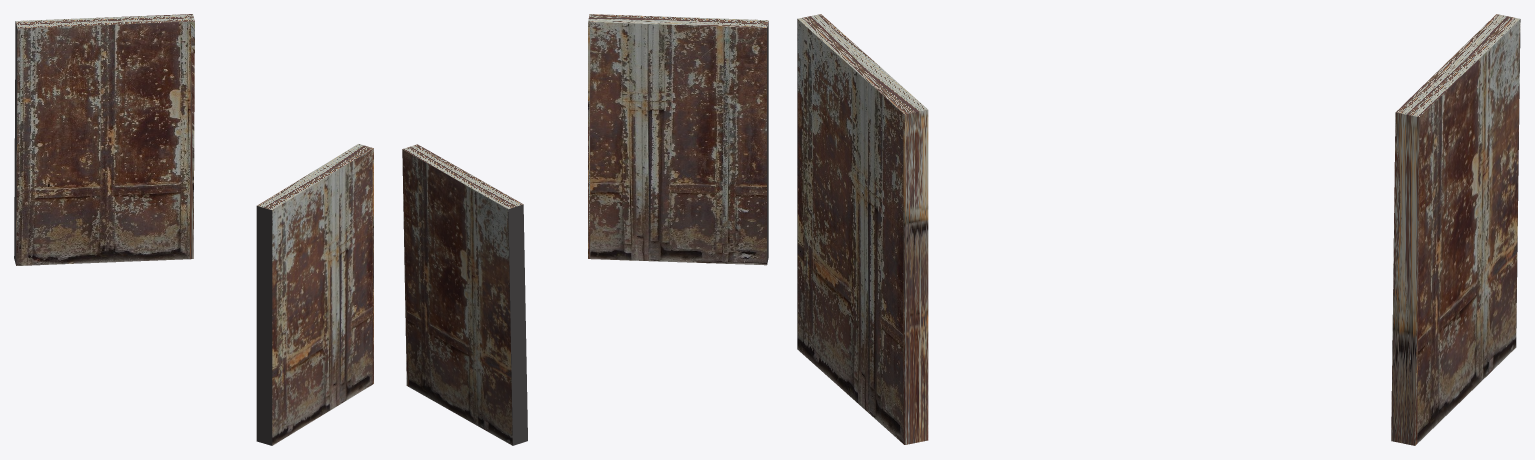
File: Puerta ABIERTA.fbx
The picture shows the model from 3 angles, left to right: view 1: azimuth 30°, elevation 25°; view 2: azimuth 150°, elevation 25°; view 3: azimuth 270°, elevation 25°; orthographic projection. The views are drawn at different scales.
Visible parts, largest first — view 1: pCube1; view 2: pCube1; view 3: pCube1.
Boxes of the visible parts, bbox=[...] form: pCube1: bbox=[14, 14, 373, 445]; pCube1: bbox=[402, 14, 768, 445]; pCube1: bbox=[797, 14, 1520, 445].
Bounding box in the file's own units: 8.48 × 12.72 × 25.07.
Materials: 3 (1 with a texture image).
